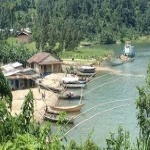House: (2, 62, 35, 92), (27, 53, 61, 79)
Lake: (53, 36, 150, 150)
